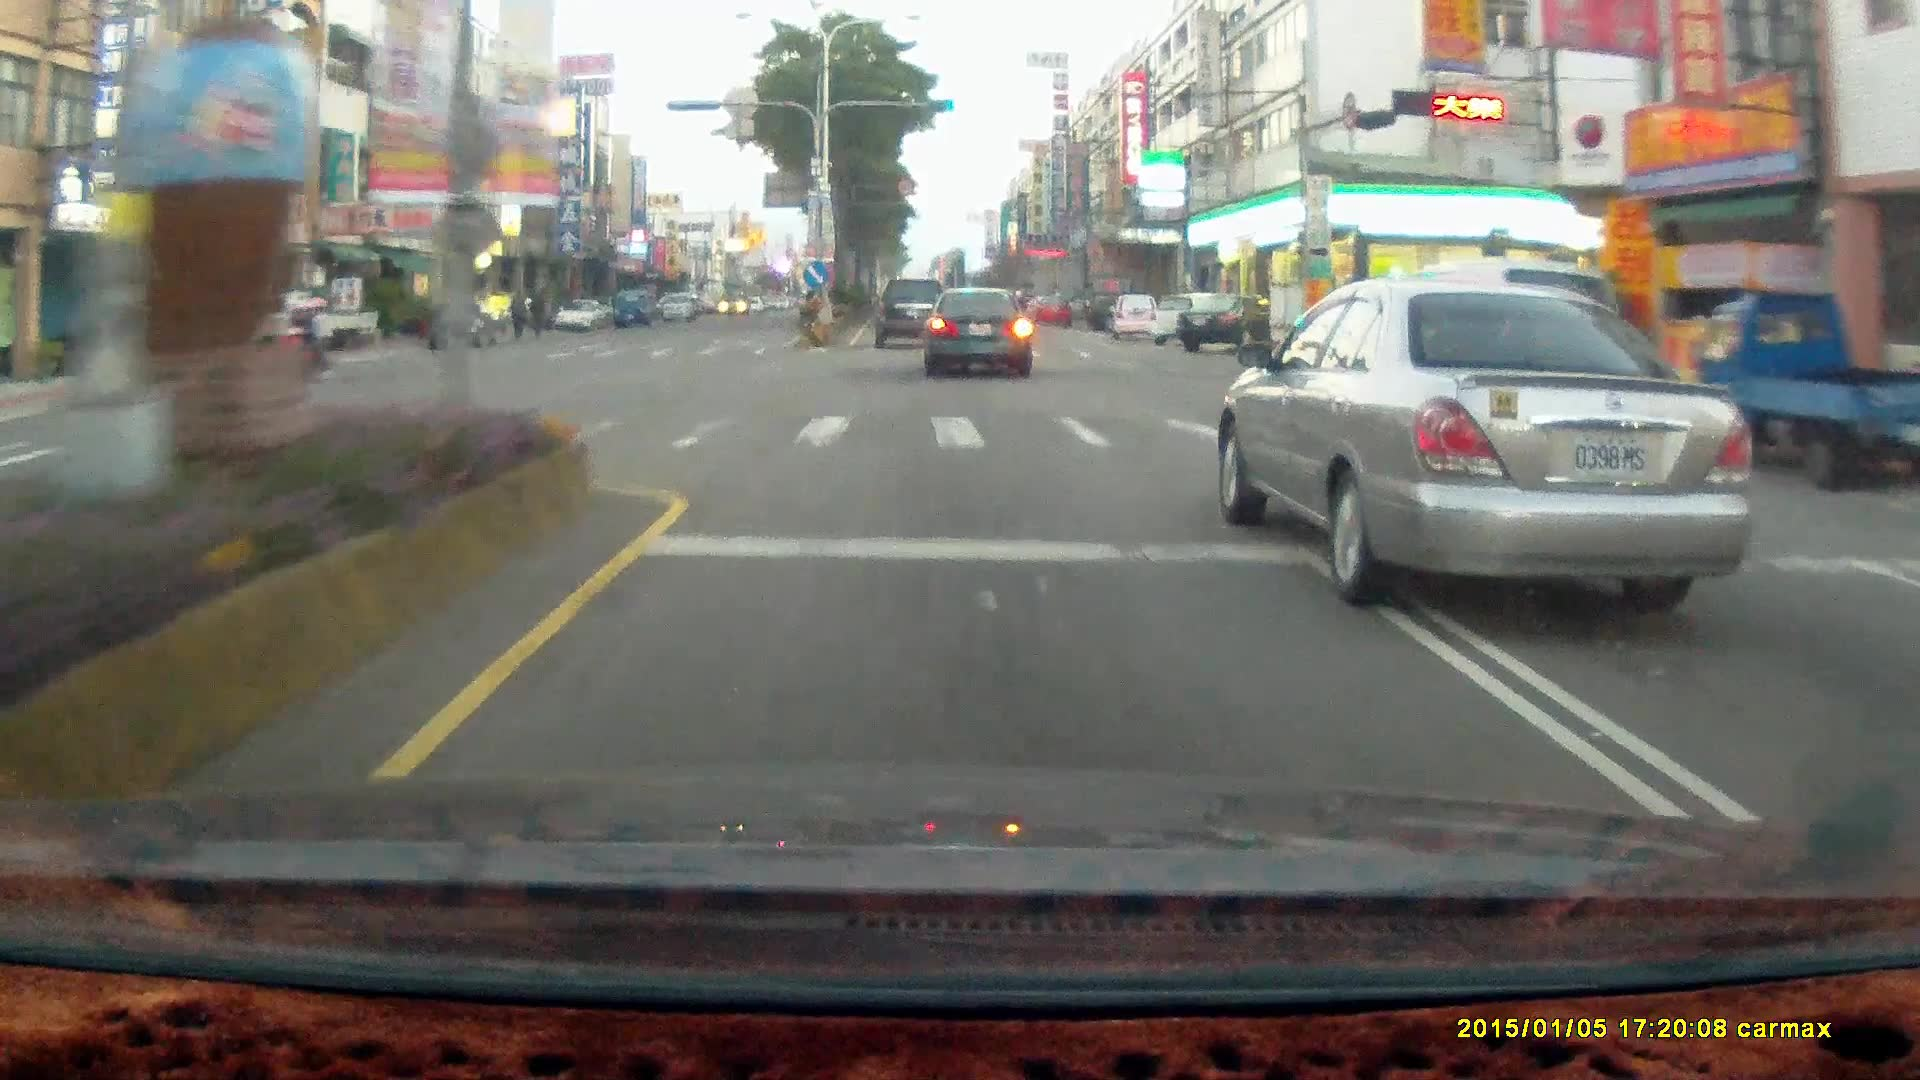pedestrian: (505, 288, 527, 340), (507, 288, 529, 339), (527, 284, 548, 337), (525, 286, 545, 338)
rider: (266, 293, 338, 382)
vehicle: (1217, 279, 1754, 598), (1336, 259, 1622, 444), (1355, 259, 1641, 445), (1689, 287, 1920, 497), (1698, 287, 1920, 498), (48, 303, 215, 376), (924, 288, 1034, 382), (921, 285, 1029, 377), (245, 292, 383, 364), (222, 292, 376, 355), (1174, 291, 1287, 352), (1176, 294, 1275, 353), (872, 277, 948, 348), (873, 278, 948, 350), (1146, 291, 1226, 345), (425, 304, 504, 353), (426, 309, 497, 348), (1104, 292, 1159, 340), (1111, 295, 1164, 345), (1079, 287, 1141, 328), (553, 299, 609, 333), (554, 296, 605, 328), (613, 290, 650, 324), (1028, 293, 1067, 325), (652, 291, 686, 318)
